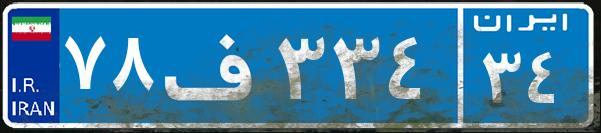3: (273, 28, 330, 110), (330, 28, 385, 110), (475, 38, 525, 113)
4: (385, 28, 445, 110), (525, 38, 570, 115)
7: (57, 26, 110, 107)
8: (110, 28, 158, 105)
ف: (158, 15, 273, 115)
